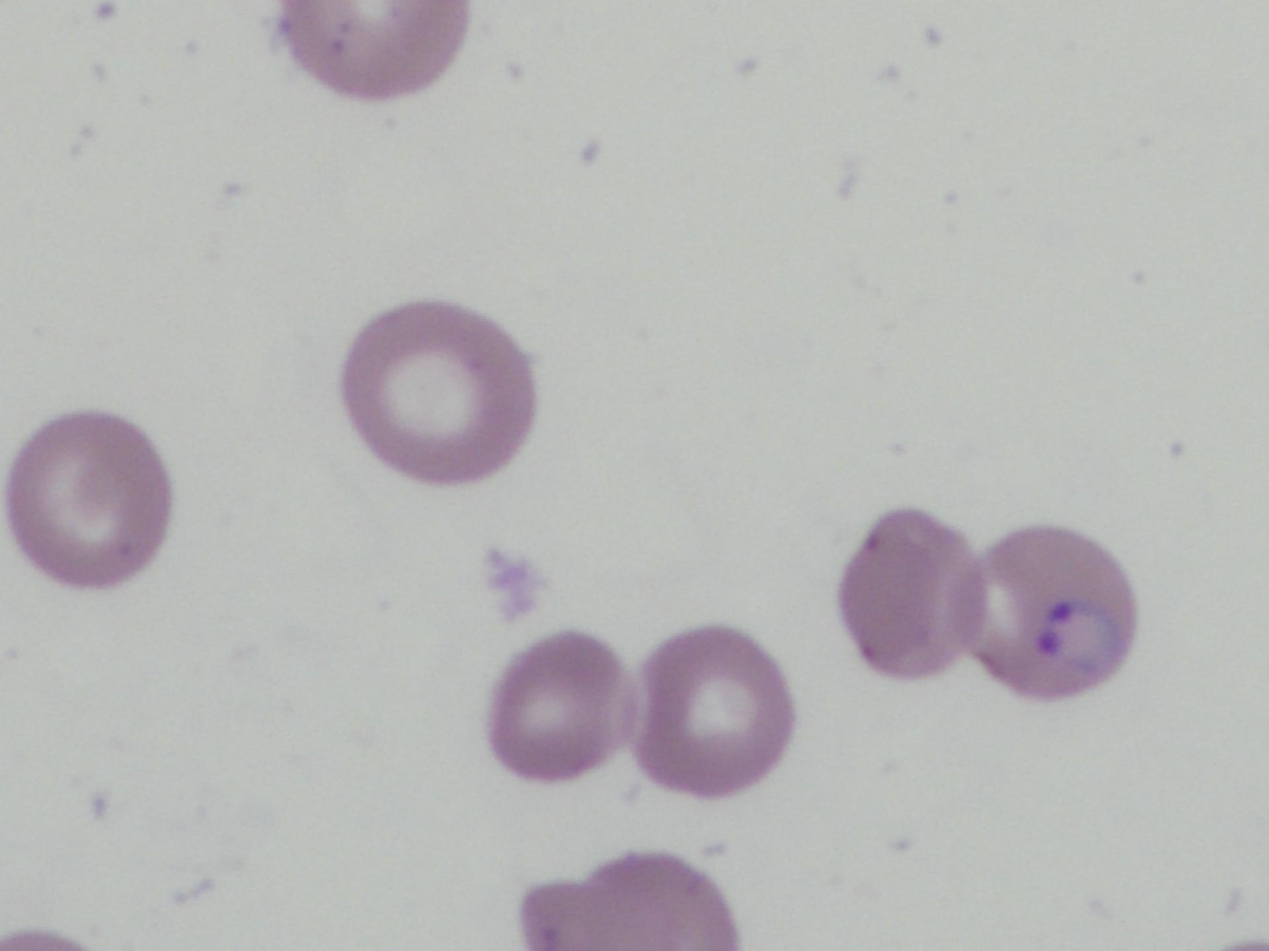Infected: (961, 525, 1135, 706)
Uninfected: (341, 305, 535, 481), (630, 624, 798, 797), (9, 415, 175, 589), (846, 510, 988, 680), (489, 633, 634, 784)
